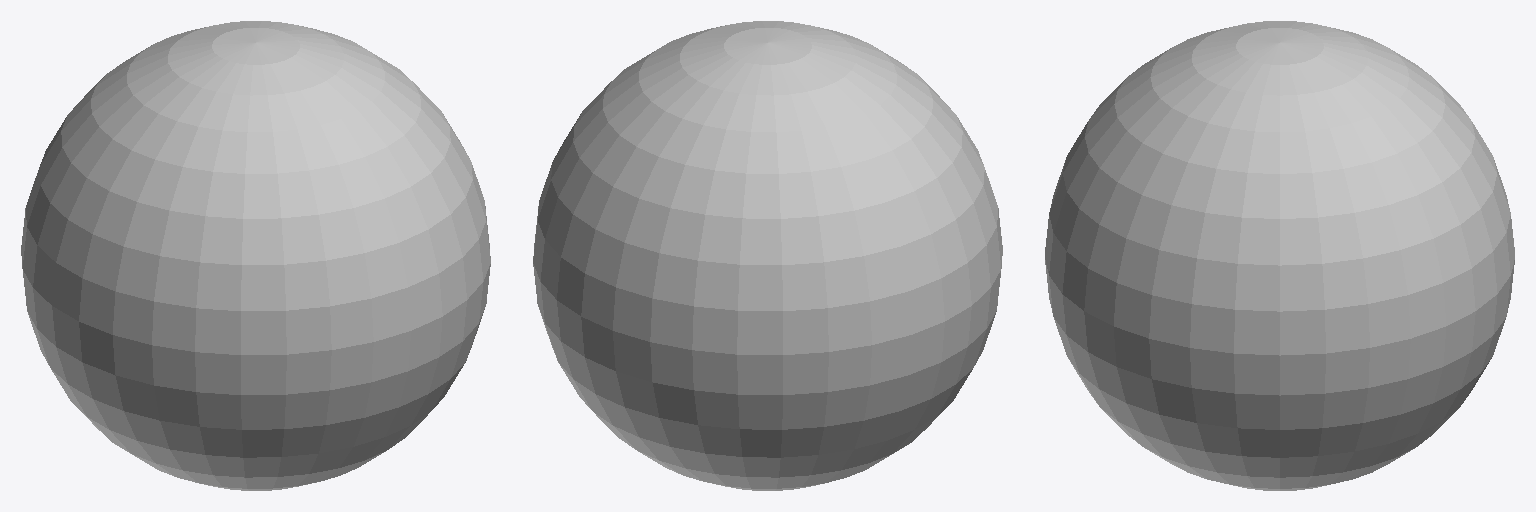
The model's file is deathParticles.obj.
3 views of the same model, side by side, from view 1: azimuth 30°, elevation 25°; view 2: azimuth 150°, elevation 25°; view 3: azimuth 270°, elevation 25° (orthographic).
Parts seen in each view (by area): view 1: 球; view 2: 球; view 3: 球.
Part boxes in pixels (x1,y1,x2,y2): 球: (21, 21, 490, 490); 球: (533, 21, 1002, 490); 球: (1045, 21, 1514, 490).
Bounding box in the file's own units: 0.8712 × 0.8712 × 0.8712.